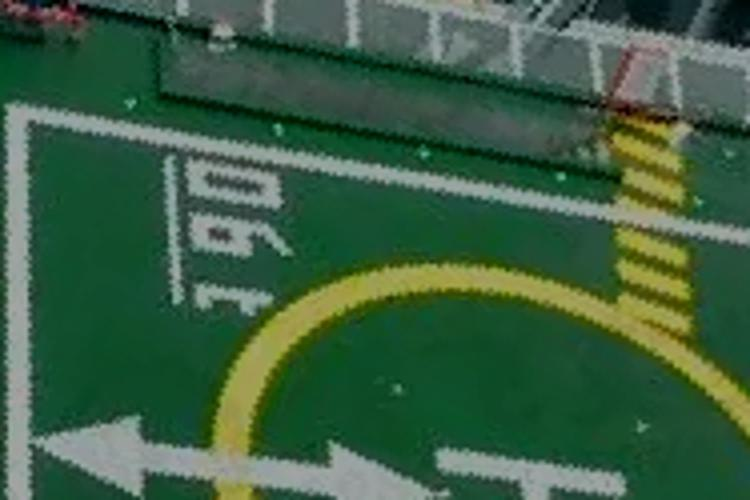Apron: (201, 247, 750, 500)
